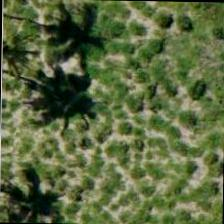Kelapa_Sawit: (1, 0, 51, 80)
